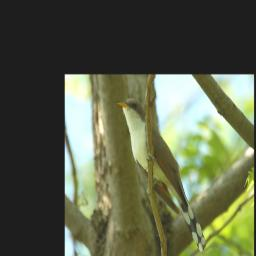Cuckoo: (116, 98, 205, 251)
